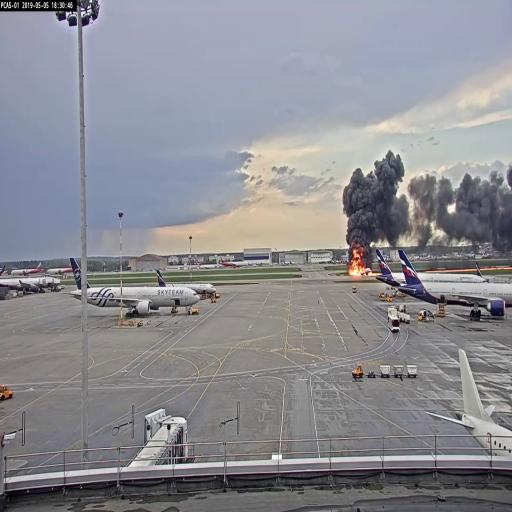fire: (347, 248, 370, 273)
smoke: (408, 168, 506, 254), (341, 154, 413, 247)
